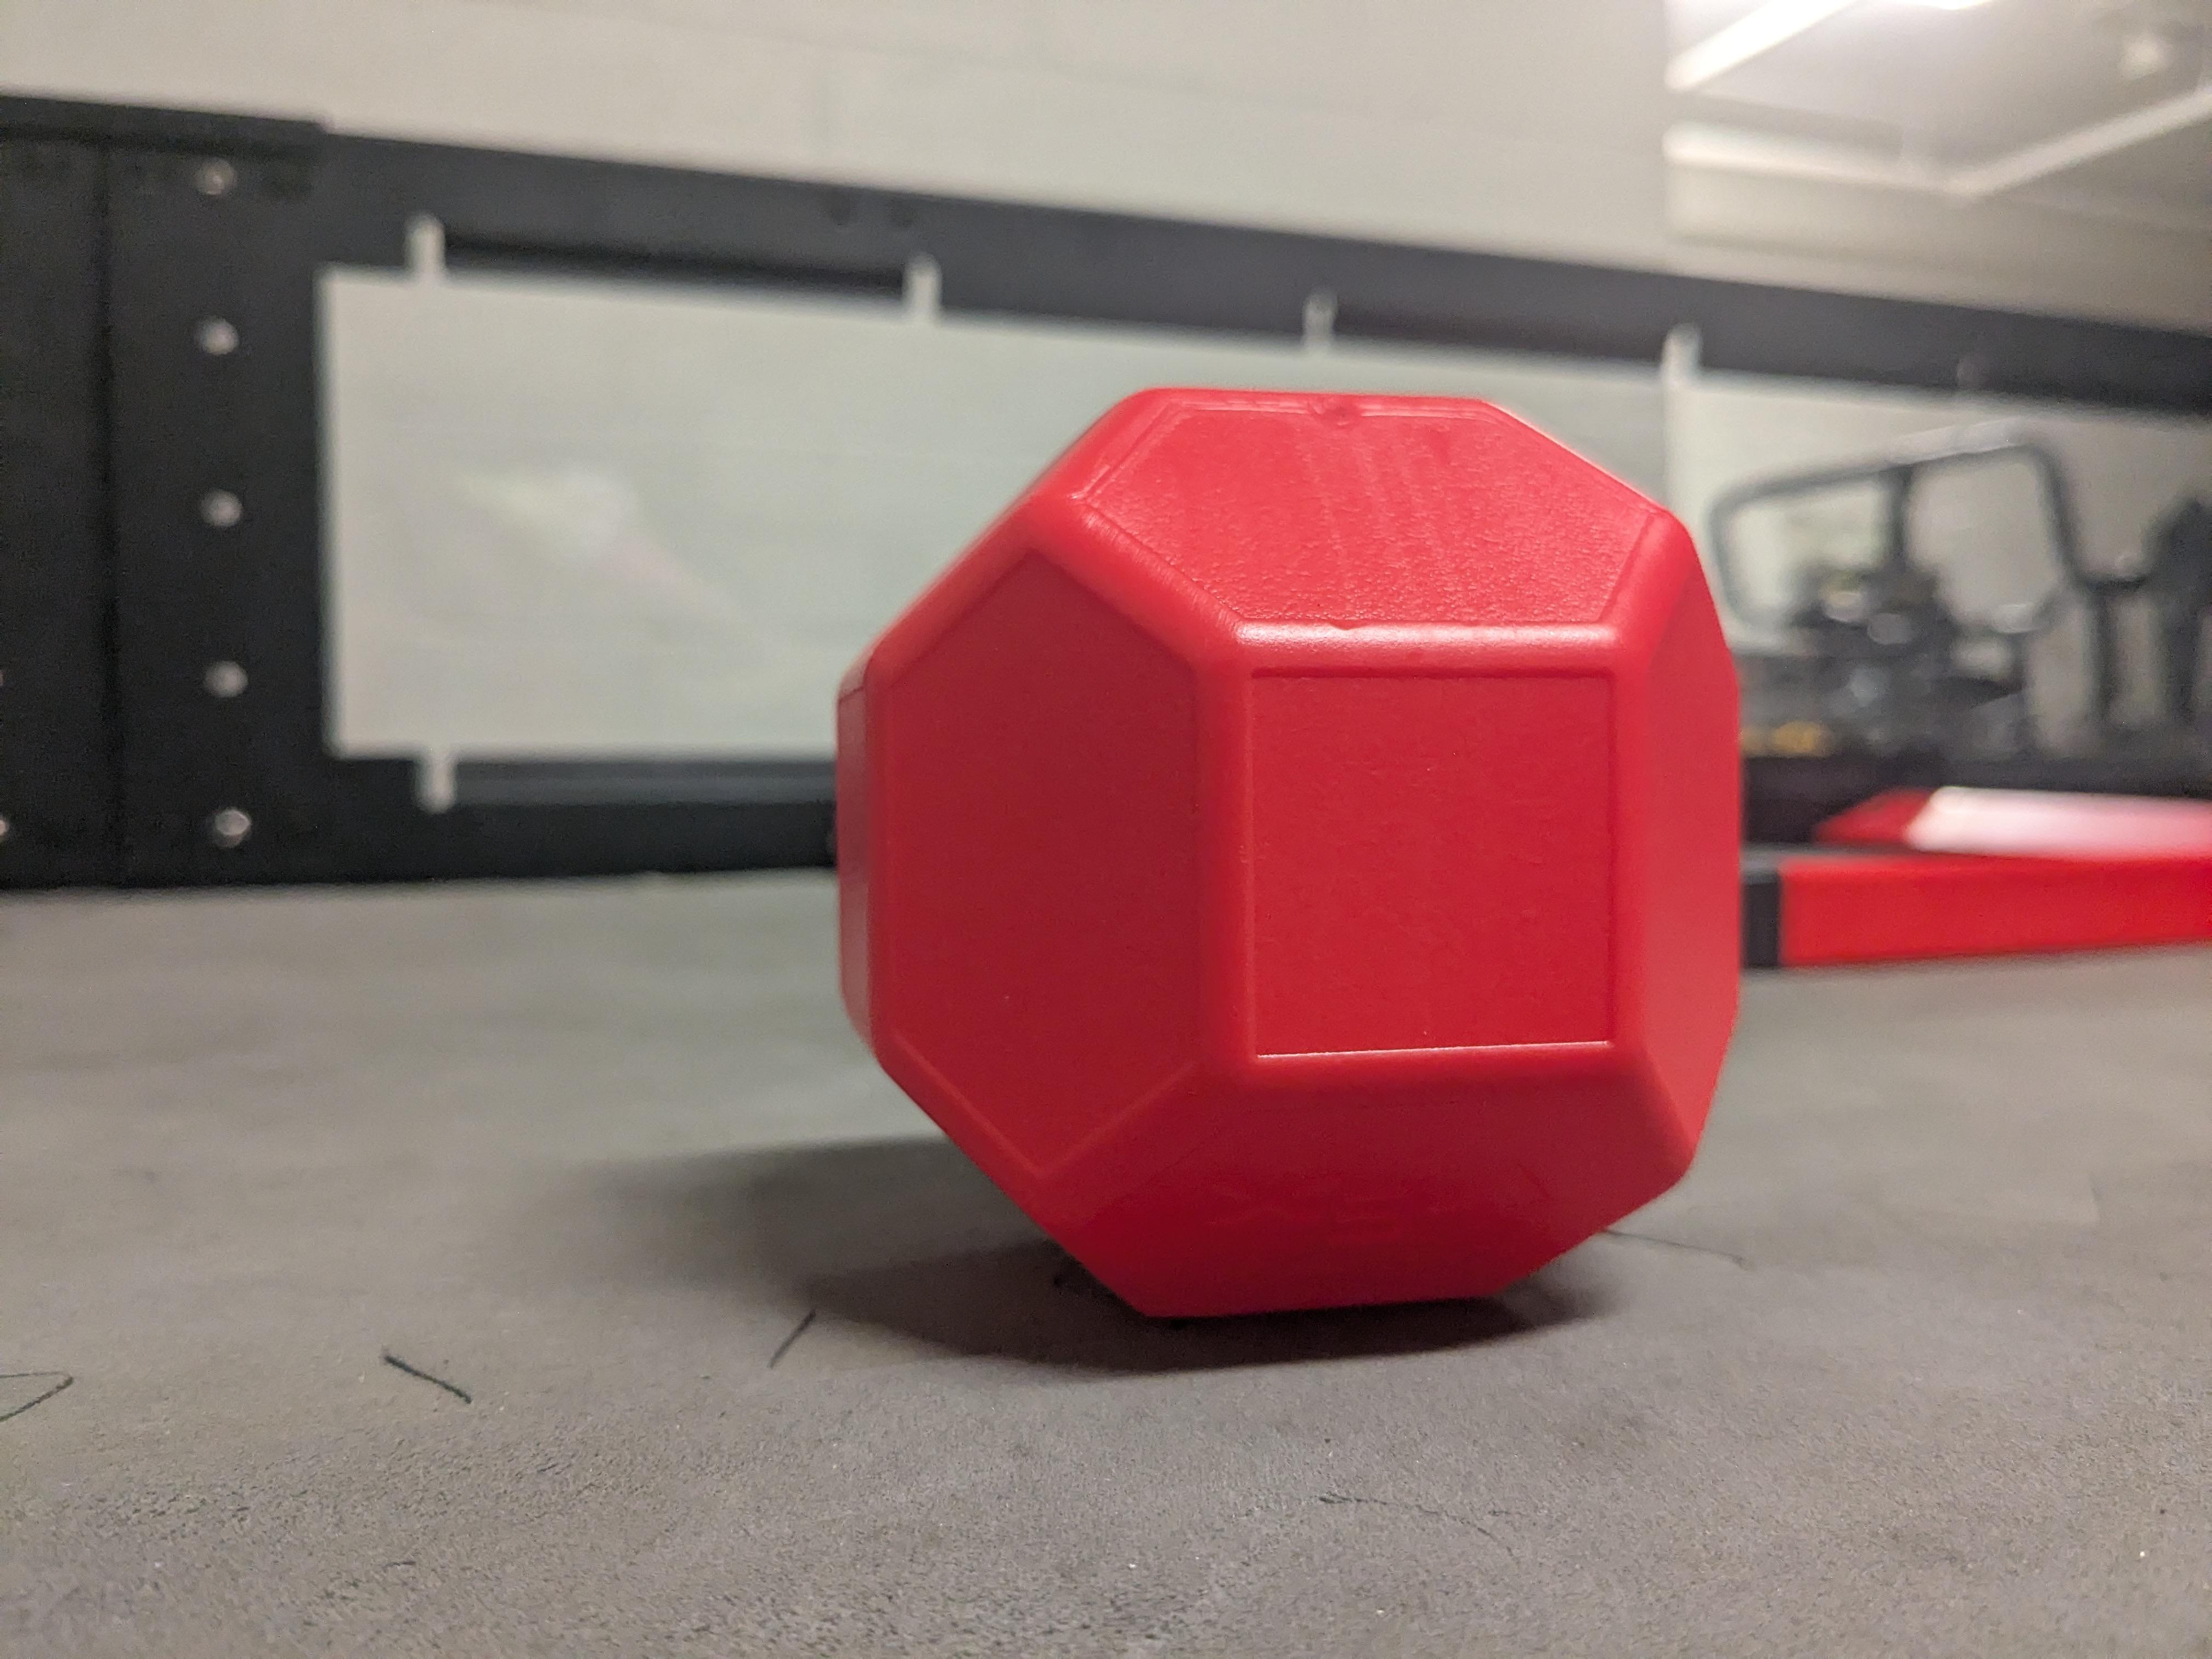Vex-Pieces-RED: (838, 390, 1740, 1314)
